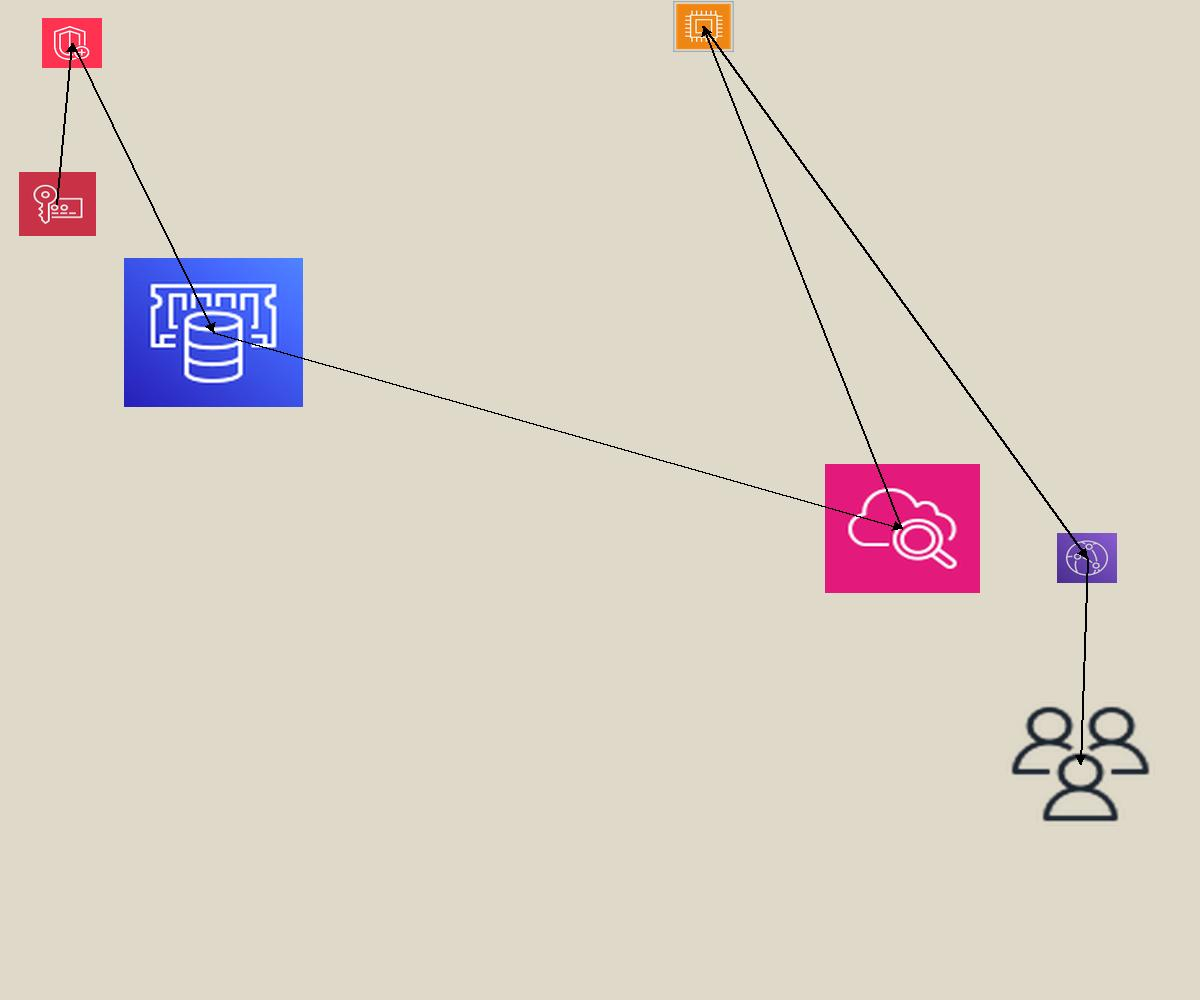AWS-Category_Compute: (673, 1, 734, 52)
AWS-CloudFront: (1057, 533, 1117, 583)
AWS-CloudWatch: (825, 464, 980, 593)
AWS-ElastiCache: (124, 258, 303, 407)
AWS-Key-Management-Service: (19, 172, 96, 236)
AWS-Res_Users: (1006, 702, 1155, 826)
AWS-Shield: (42, 18, 102, 68)
